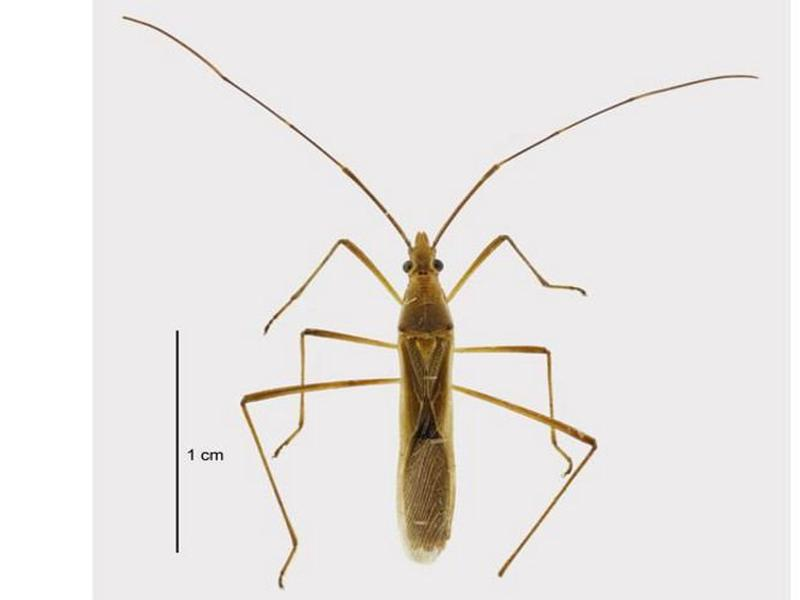Rice_earhead_bug: (218, 183, 626, 570)
